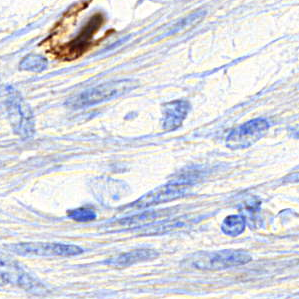Lymphocyte: (43, 1, 116, 61)
